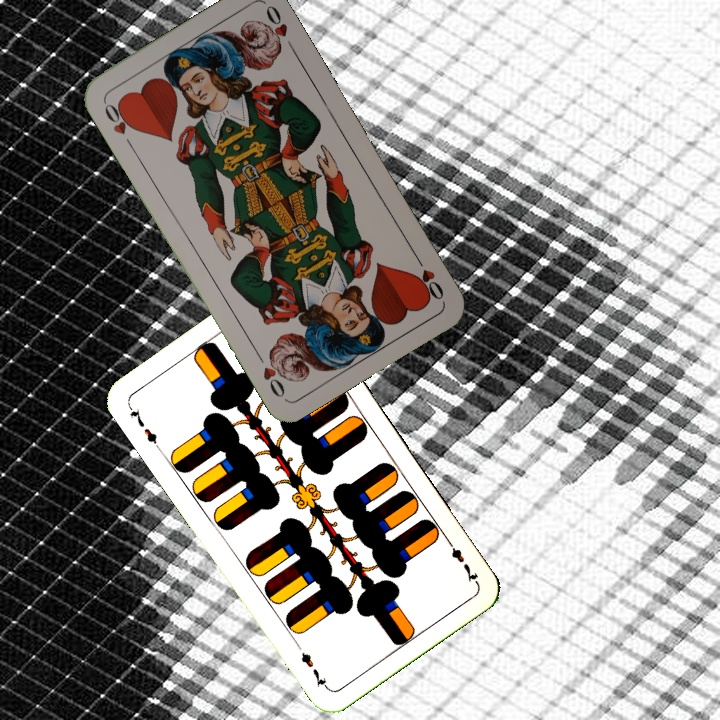E7: (441, 533, 481, 586), (124, 401, 163, 453)
HO: (100, 98, 139, 151), (410, 250, 447, 303)
